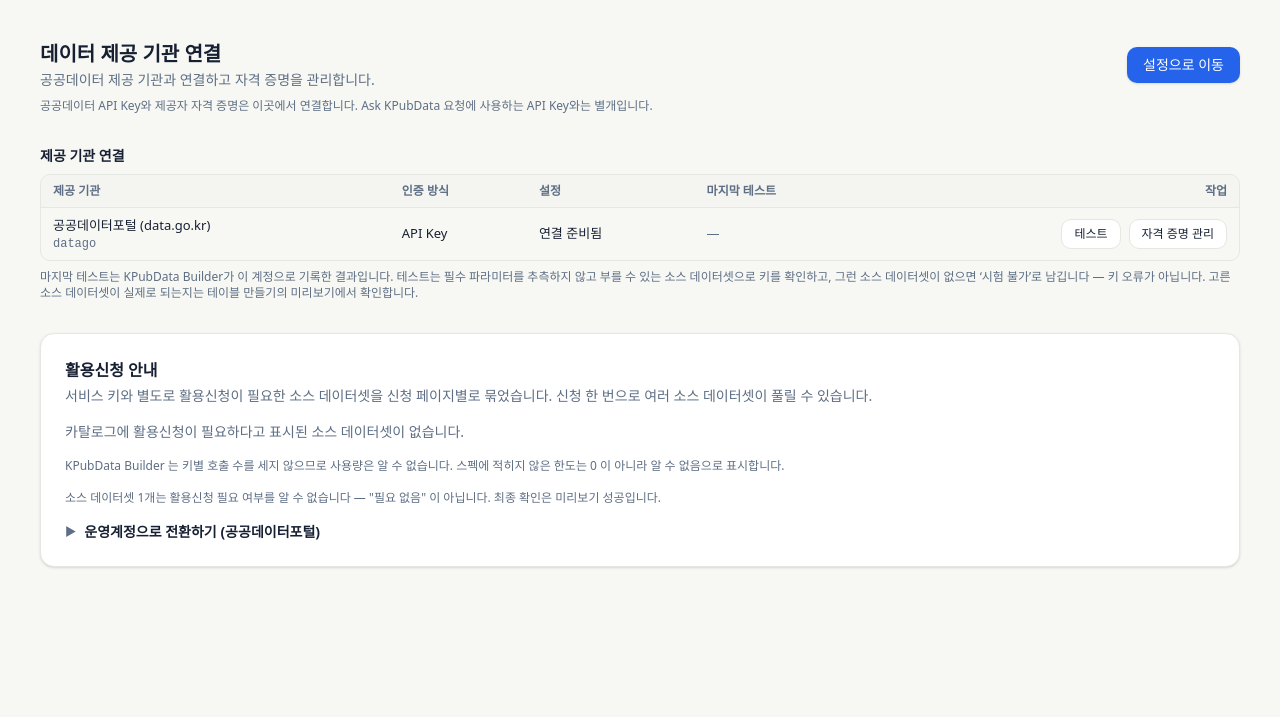
Test: ProviderPage real mode (#S01) › server-default-only provider (summary configured=true, no user credential) → no Delete, register allowed
Click the text "datago": (75, 244) [53,236,96,250]
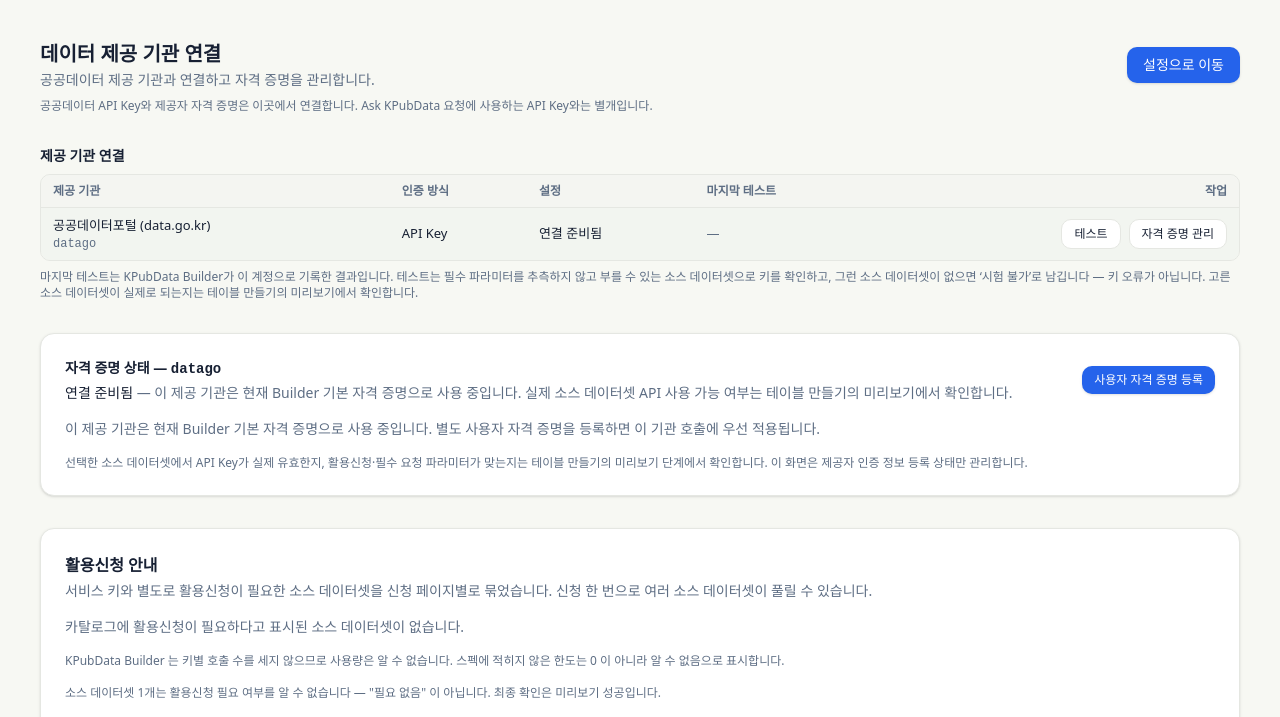
Check: the text "Builder 기본 자격 증명으로 사용 중" is shown, box [154,382,1012,402]
Check: the button "사용자 자격 증명 등록" is shown, box [1082,366,1215,394]
